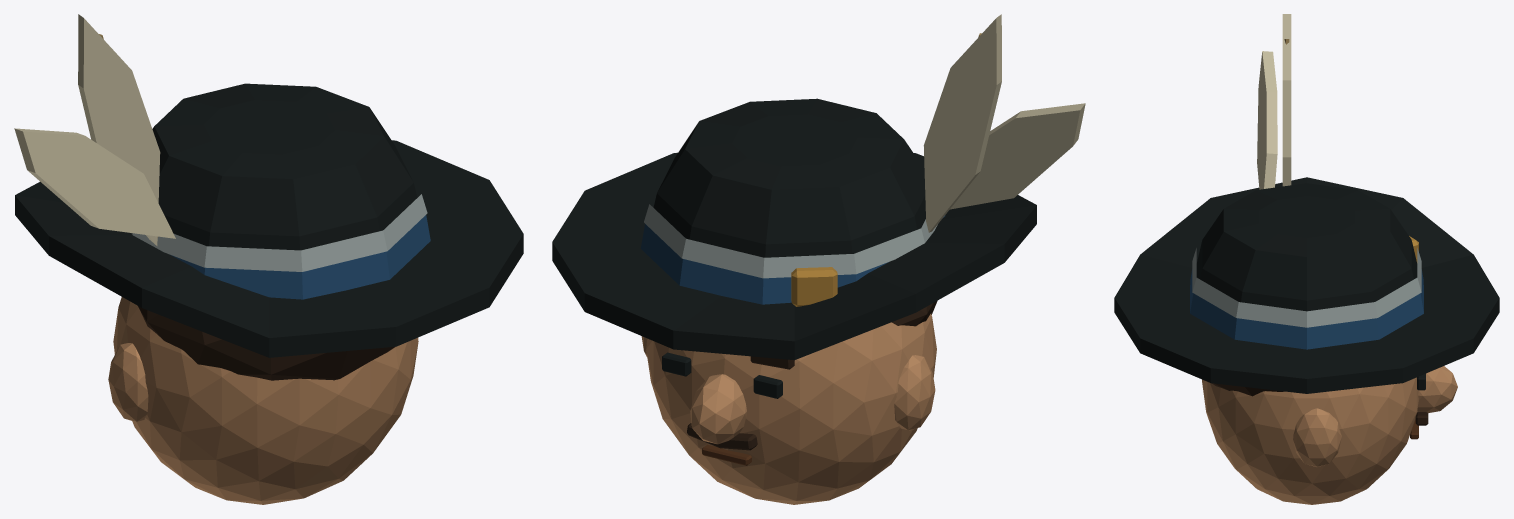
File: Head.glb
3 renders of one model, left to right at view 1: azimuth 30°, elevation 25°; view 2: azimuth 150°, elevation 25°; view 3: azimuth 270°, elevation 25°, orthographic. The views are drawn at different scales.
Parts seen in each view (by area): view 1: Sculpture; view 2: Sculpture; view 3: Sculpture.
Boxes of the visible parts, x1,y1,x2,y2 form: Sculpture: (14, 14, 523, 504); Sculpture: (552, 14, 1085, 504); Sculpture: (1114, 14, 1499, 504).
Bounding box in the file's own units: 0.8696 × 0.8988 × 0.77.
